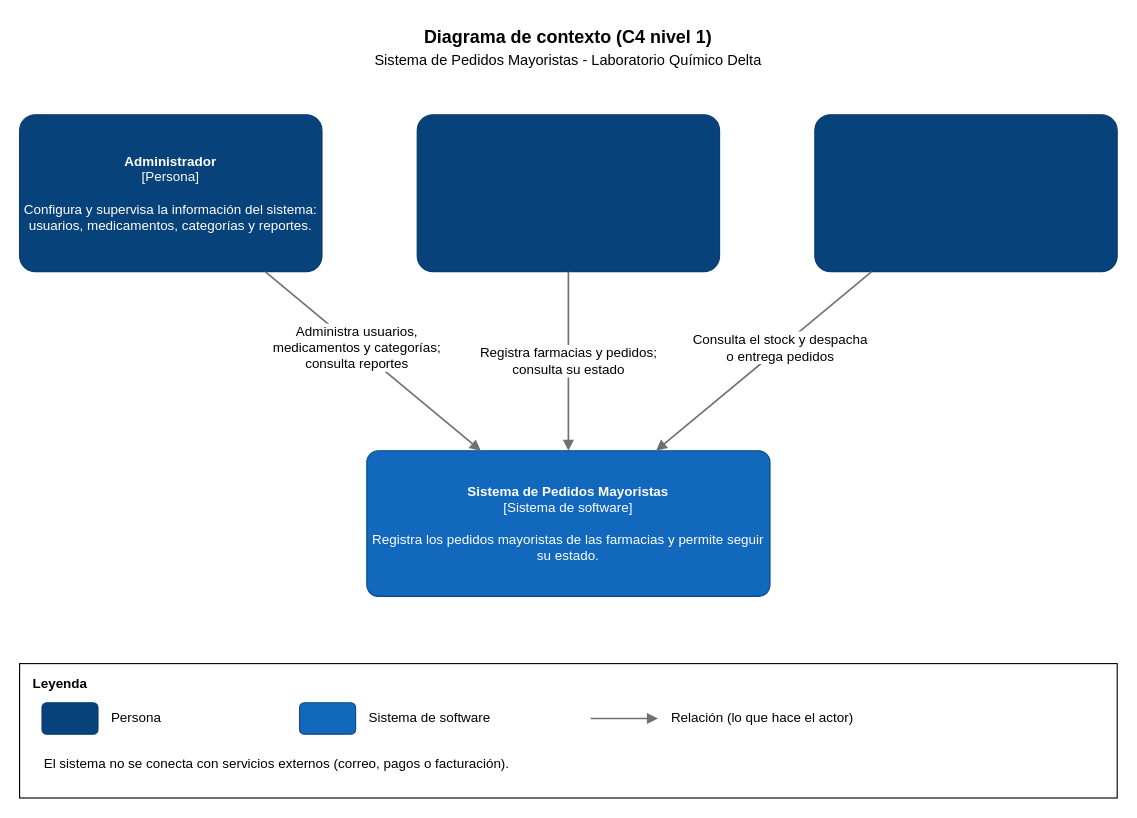
Image size: 1137x818. Some labels were removed from this diagram. Each missing label, with the centre of its shape:
"Ejecutivo de ventas [Persona] Atiende a las farmacias y registra sus pedidos." goes at pixel 568 193.
"Encargado de almacén [Persona] Controla el stock y la salida de los pedidos." goes at pixel 965 193.
